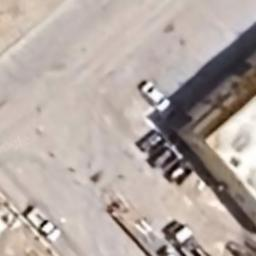pickup: (20, 200, 64, 244)
sedan: (138, 80, 174, 116)
truck: (160, 216, 214, 256)
